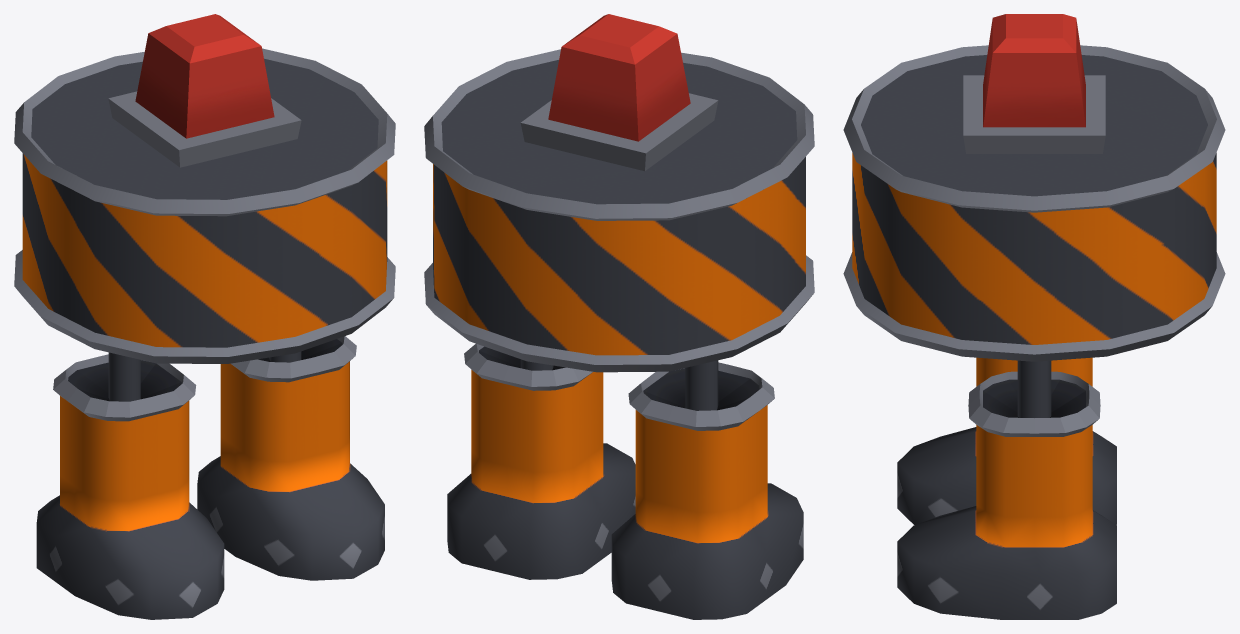
The model's file is small_ememy.fbx.
3 views of the same model, side by side, from view 1: azimuth 30°, elevation 25°; view 2: azimuth 150°, elevation 25°; view 3: azimuth 270°, elevation 25° (orthographic). The views are drawn at different scales.
Parts seen in each view (by area): view 1: small_enemy; view 2: small_enemy; view 3: small_enemy.
Part boxes in pixels (left/top/right/bottom): small_enemy: left=14, top=14, right=395, bottom=619; small_enemy: left=424, top=14, right=814, bottom=619; small_enemy: left=843, top=14, right=1225, bottom=619.
Size of the model in its own units: 62.97 by 94.9 by 62.97.
